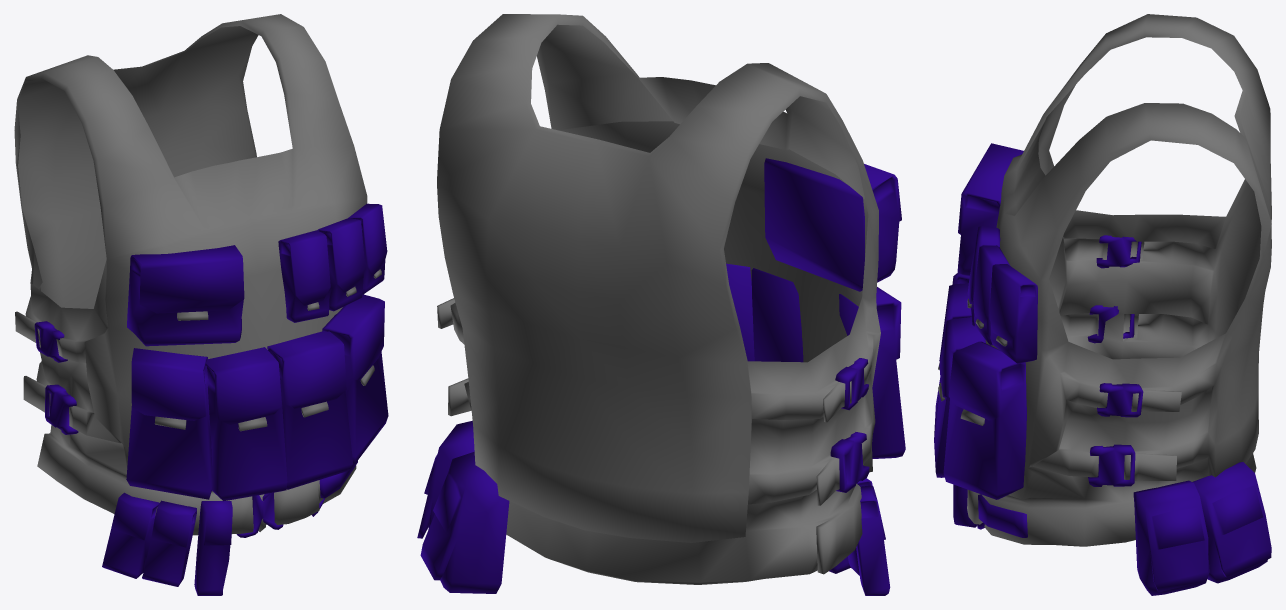
File: Yelek_1.fbx
The picture shows the model from 3 angles, left to right: view 1: azimuth 30°, elevation 25°; view 2: azimuth 150°, elevation 25°; view 3: azimuth 270°, elevation 25°; orthographic projection. The views are drawn at different scales.
Visible parts, largest first — view 1: Swat Vest; view 2: Swat Vest; view 3: Swat Vest.
Boxes of the visible parts, left/top/right/bottom form: Swat Vest: left=14, top=14, right=388, bottom=595; Swat Vest: left=417, top=14, right=905, bottom=595; Swat Vest: left=934, top=14, right=1271, bottom=595.
Size of the model in its own units: 27.12 by 37.07 by 23.11.
